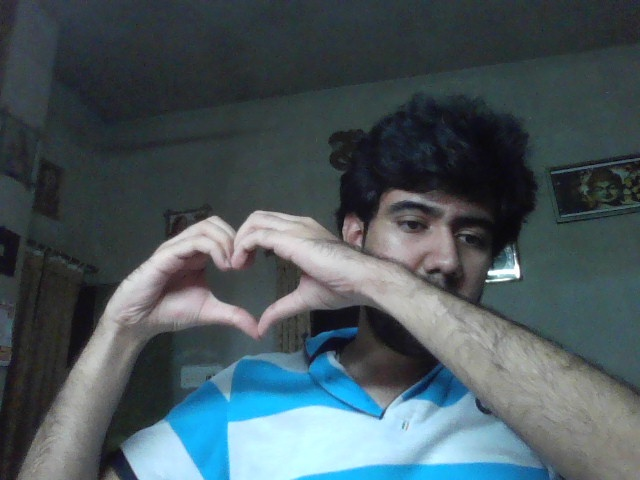Love: (115, 210, 352, 343)
